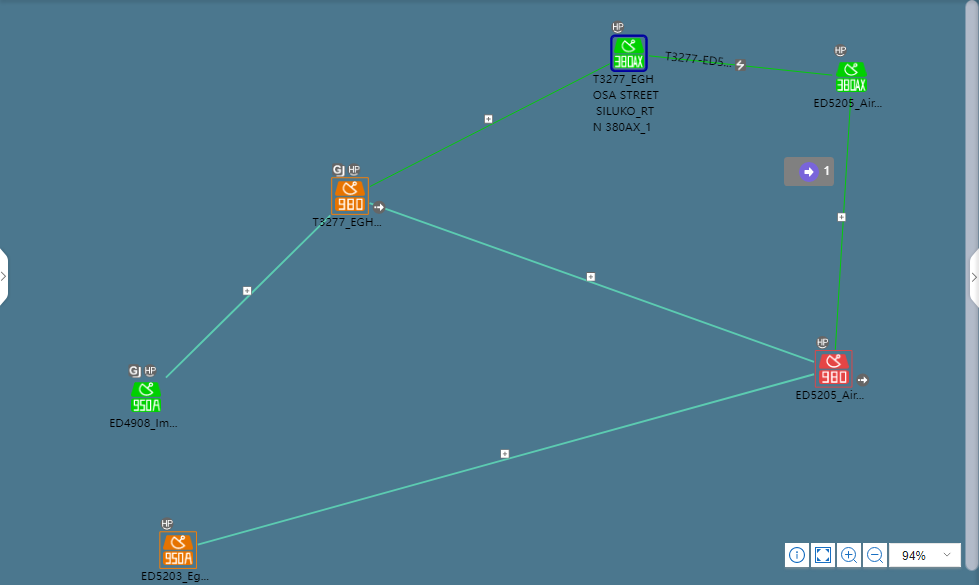Link_Blue: (205, 369, 811, 542), (376, 204, 811, 367), (162, 216, 326, 378)
Link_Green: (370, 63, 606, 187), (829, 100, 858, 349), (652, 51, 832, 80)
RTN_Green: (609, 39, 650, 74), (835, 63, 870, 91), (132, 381, 159, 416)
RTN_Orange: (333, 179, 369, 214), (162, 534, 197, 569)
RTN_Red: (817, 351, 849, 384)
